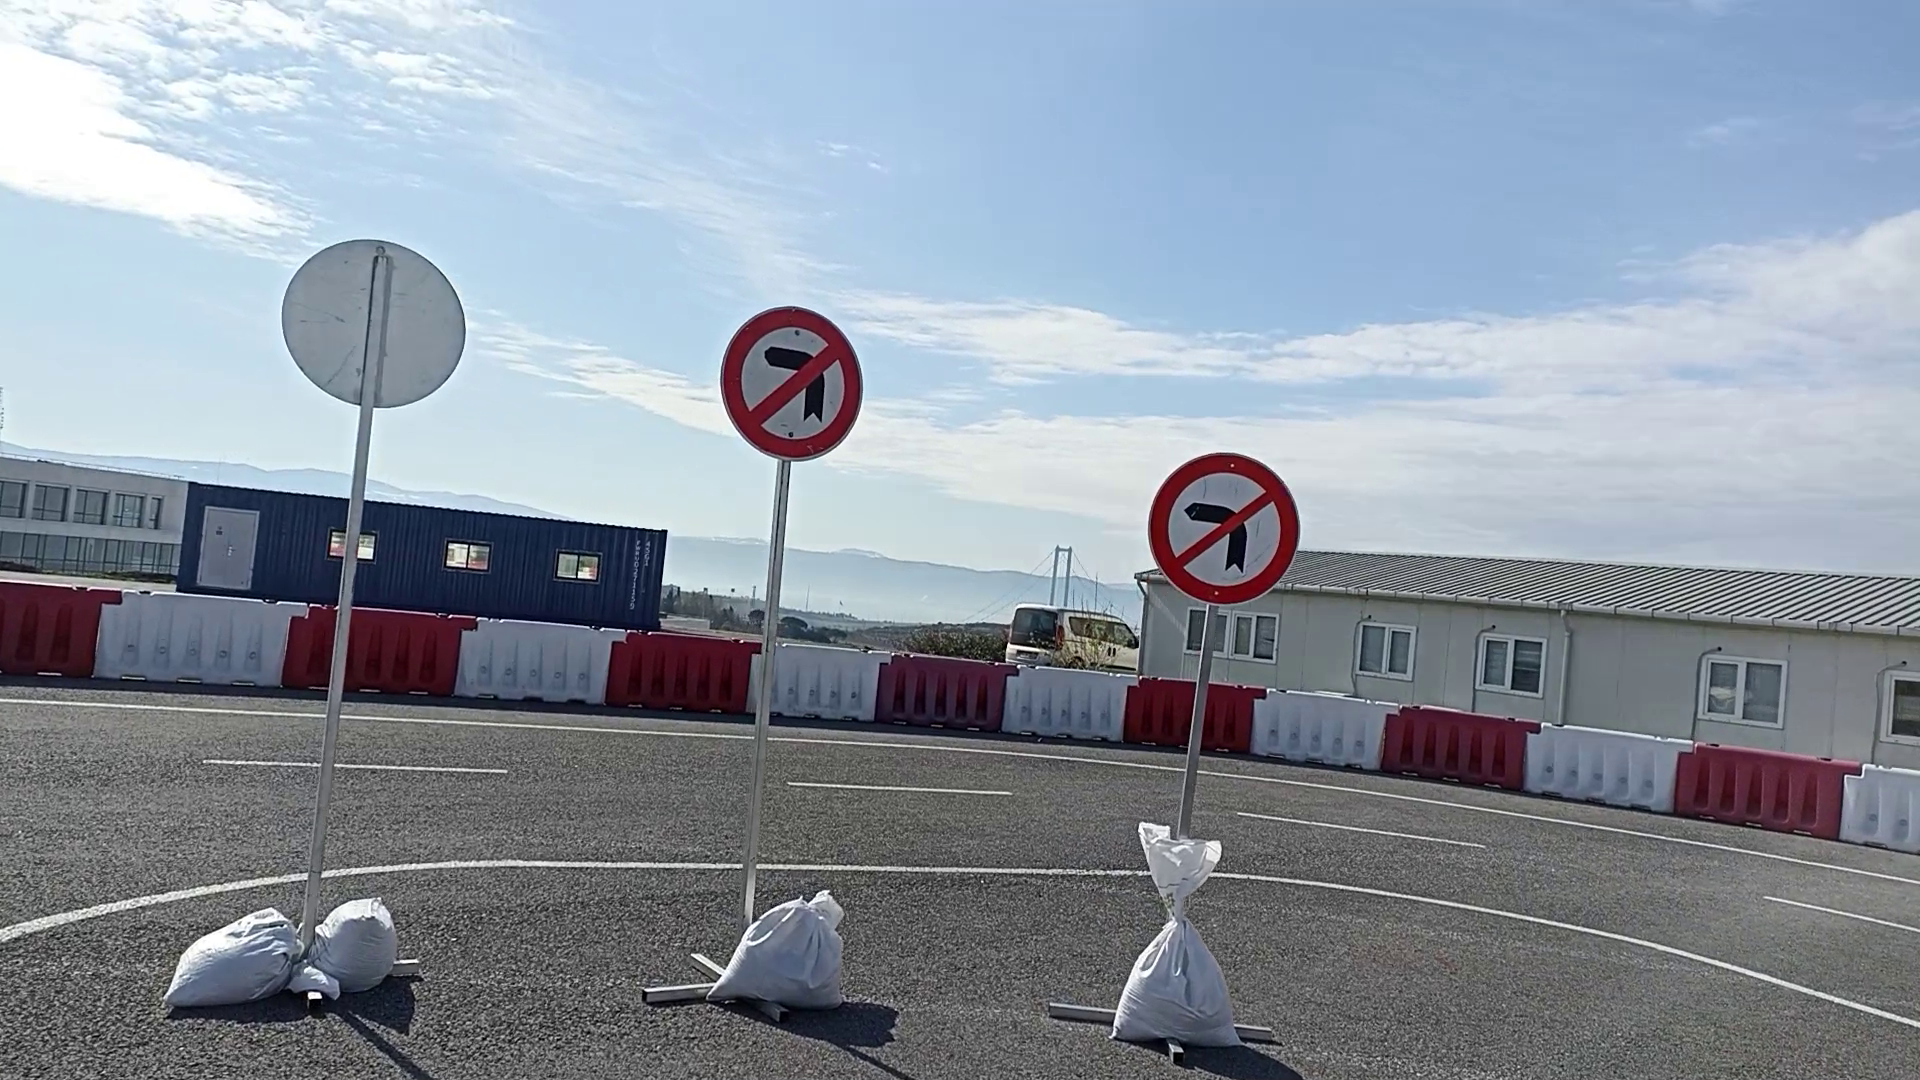noleft: (1149, 450, 1302, 607), (719, 305, 866, 464)
